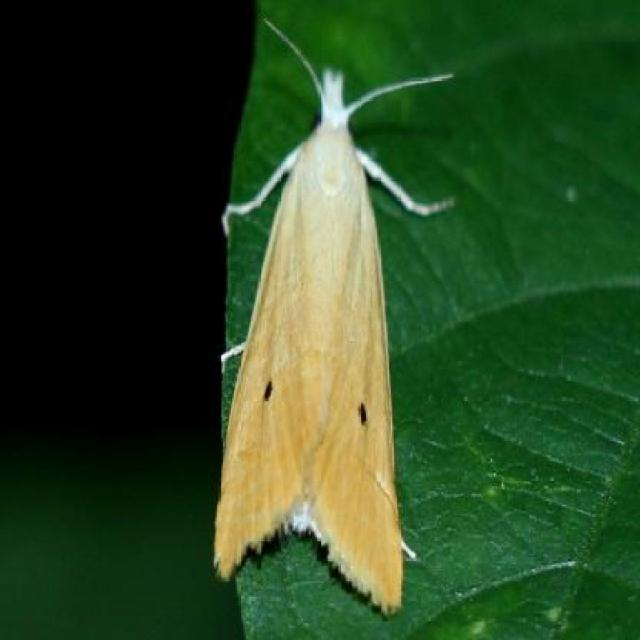stem-borer: (210, 15, 456, 622)
